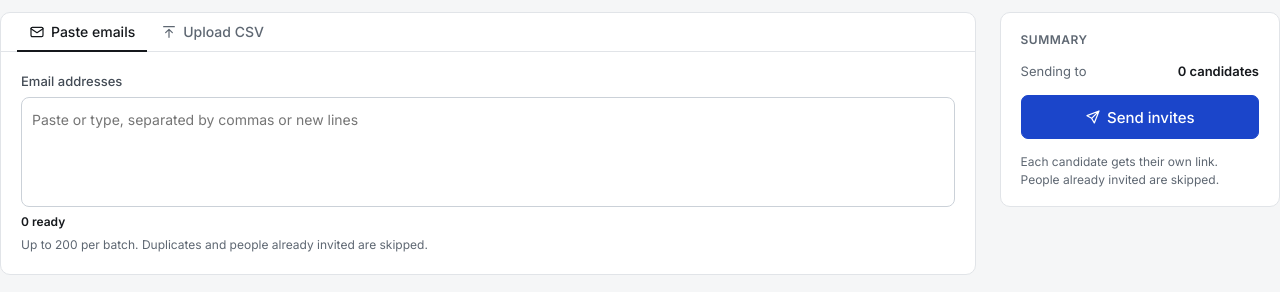
Test: InviteCandidatesForm › offers paste and CSV tabs and states the batch limit
Expected: the text box labelled "Email addresses" is empty, [32, 108, 944, 134]
Expected: the text "Up to 200 per batch" is shown, [21, 237, 428, 252]
Step 1. Click the tab "Upload CSV" → (213, 32), box [149, 13, 276, 52]
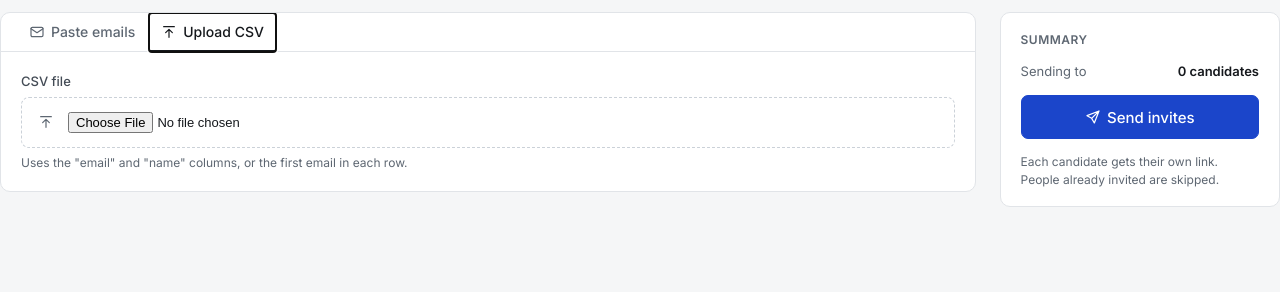
Result: the file field labelled "CSV file" is shown at [68, 112, 314, 133]
